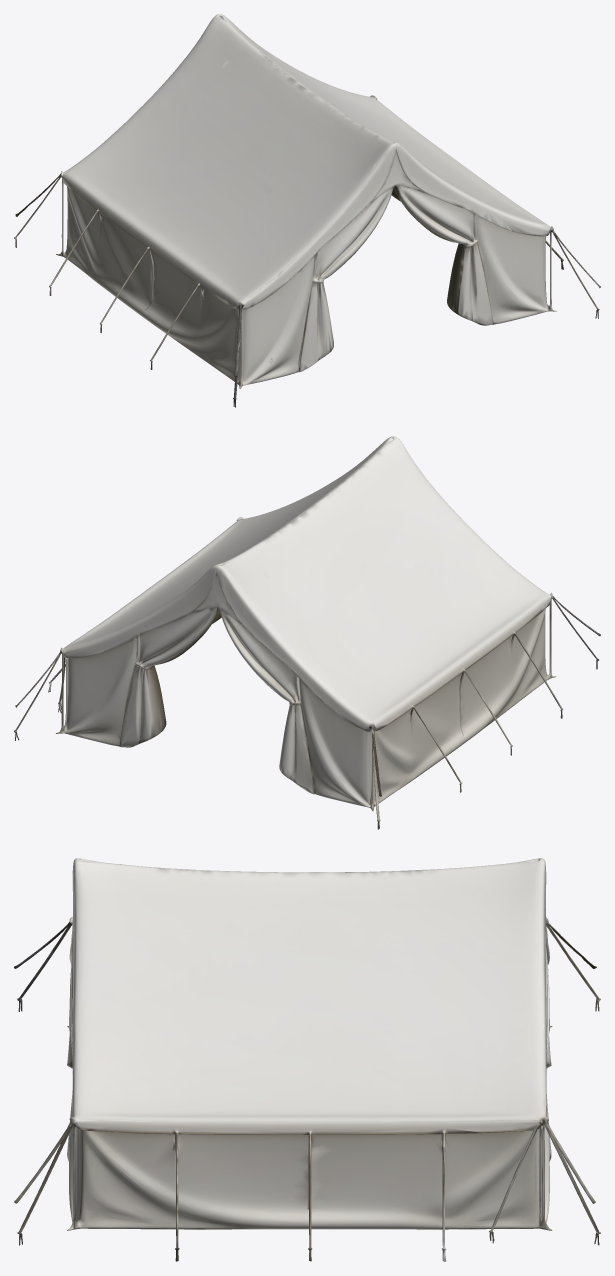
The model's file is operationstent.glb.
3 renders of one model, top to bottom at view 1: azimuth 30°, elevation 25°; view 2: azimuth 150°, elevation 25°; view 3: azimuth 270°, elevation 25°, orthographic. The views are drawn at different scales.
Visible parts, largest first — view 1: node_0.011; view 2: node_0.011; view 3: node_0.011.
Boxes of the visible parts, x1,y1,x2,y2 form: node_0.011: (14, 14, 600, 407); node_0.011: (14, 436, 600, 829); node_0.011: (14, 858, 600, 1261).
Bounding box in the file's own units: 8.67 × 4.11 × 8.07.
Materials: 1 (1 with a texture image).
